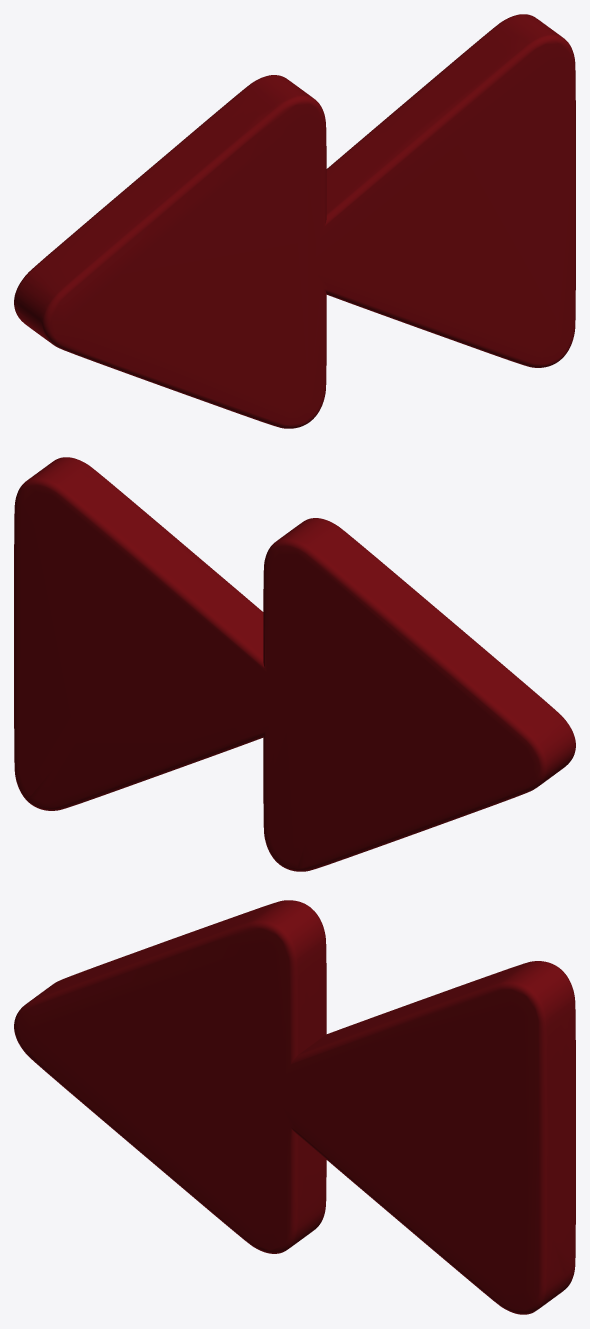
The model's file is backward.glb.
3 views of the same model, one above another, from view 1: azimuth 30°, elevation 25°; view 2: azimuth 150°, elevation 25°; view 3: azimuth 330°, elevation 25° (orthographic).
Visible parts, largest first — view 1: Circle.001; view 2: Circle.001; view 3: Circle.001.
Part boxes in pixels (x1,y1,x2,y2): Circle.001: [14, 14, 575, 428]; Circle.001: [14, 457, 575, 871]; Circle.001: [14, 900, 575, 1314].
Size of the model in its own units: 1.94 by 1.15 by 0.214.
